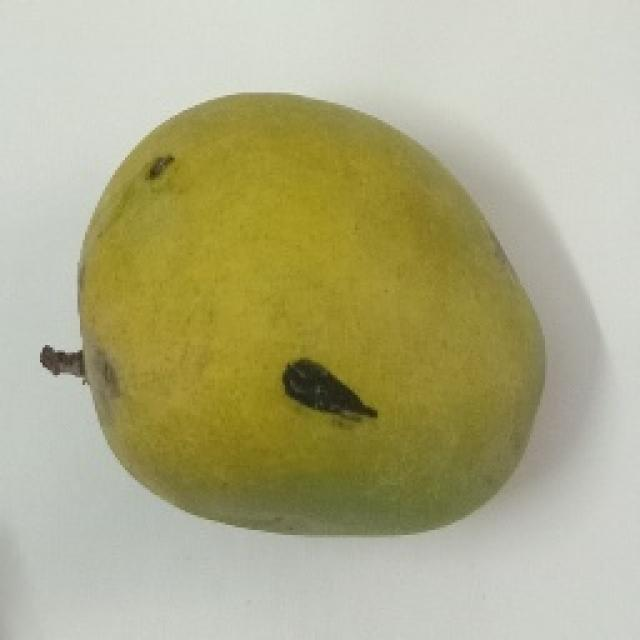defective: (38, 88, 548, 538)
